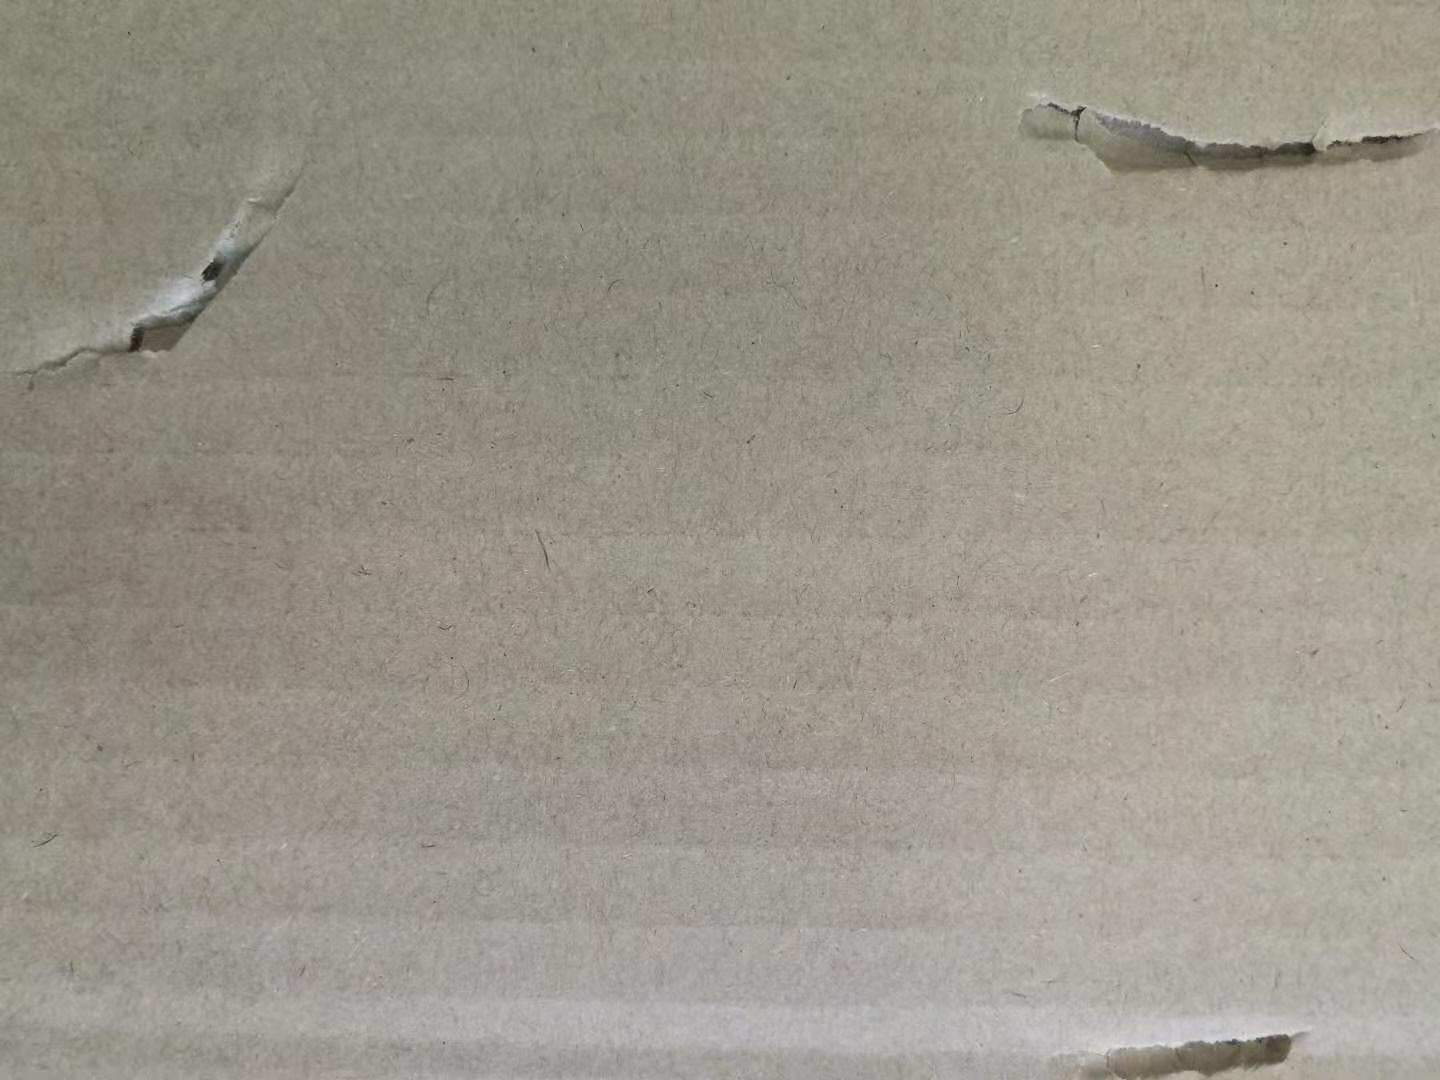defect: (3, 116, 349, 428), (989, 62, 1440, 225), (1018, 1003, 1363, 1080)
